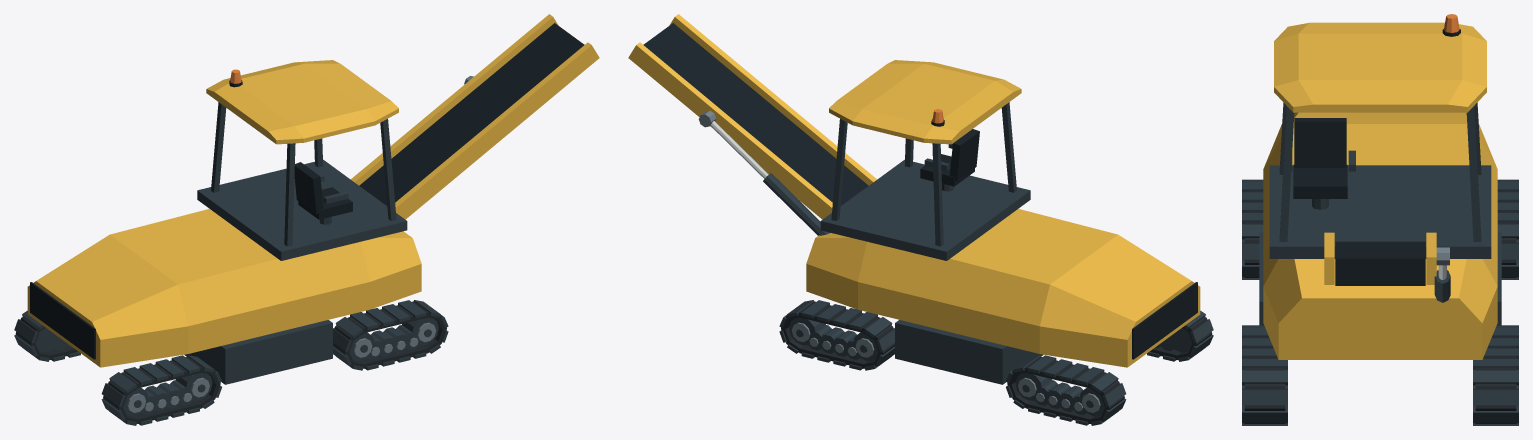
The model's file is b07_cold_planer_road_milling_machine.glb.
3 renders of one model, left to right at view 1: azimuth 30°, elevation 25°; view 2: azimuth 150°, elevation 25°; view 3: azimuth 270°, elevation 25°, orthographic. The views are drawn at different scales.
Visible parts, largest first — view 1: b07_cold_planer_road_milling_machine; view 2: b07_cold_planer_road_milling_machine; view 3: b07_cold_planer_road_milling_machine.
Part boxes in pixels (left/top/right/bottom): b07_cold_planer_road_milling_machine: left=14, top=14, right=599, bottom=425; b07_cold_planer_road_milling_machine: left=628, top=14, right=1213, bottom=425; b07_cold_planer_road_milling_machine: left=1242, top=14, right=1518, bottom=425.
Bounding box in the file's own units: 6.96 × 3.27 × 2.44.
